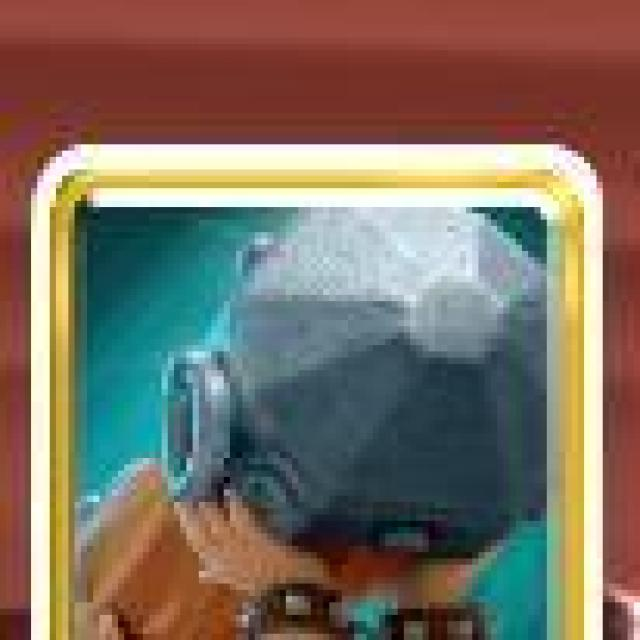Battle_Ram: (31, 146, 602, 640)
